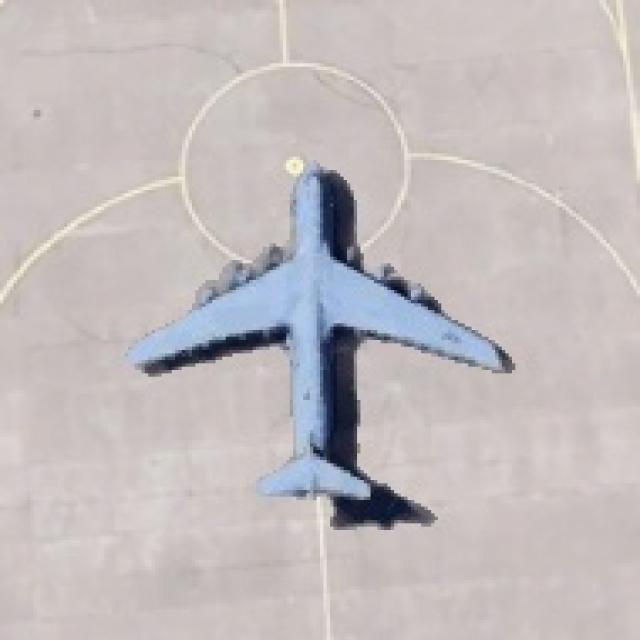C-5_TopDown: (128, 161, 518, 526)
